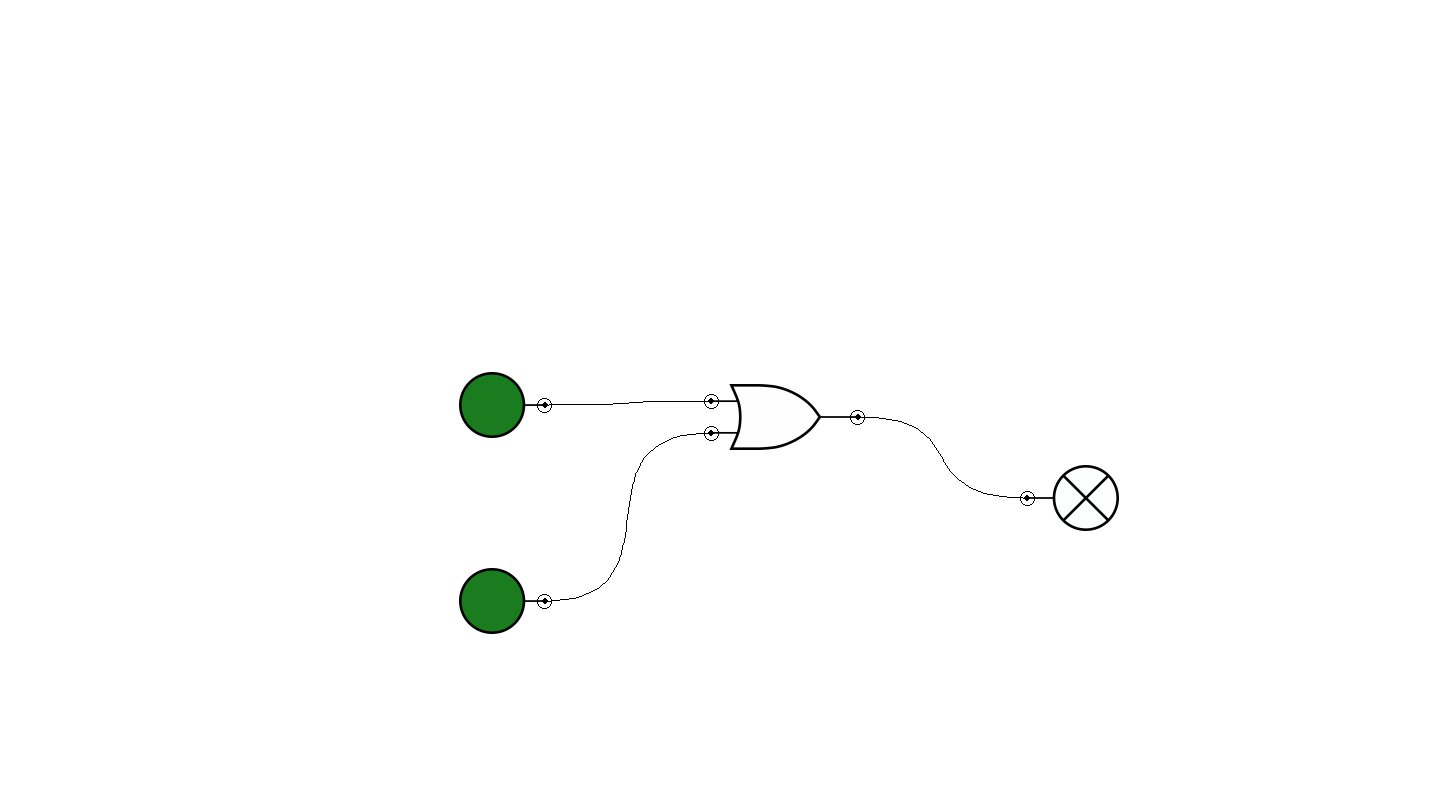bulb: (1020, 465, 1119, 531)
or: (704, 384, 865, 450)
switch_True: (459, 568, 552, 634), (459, 372, 552, 438)
